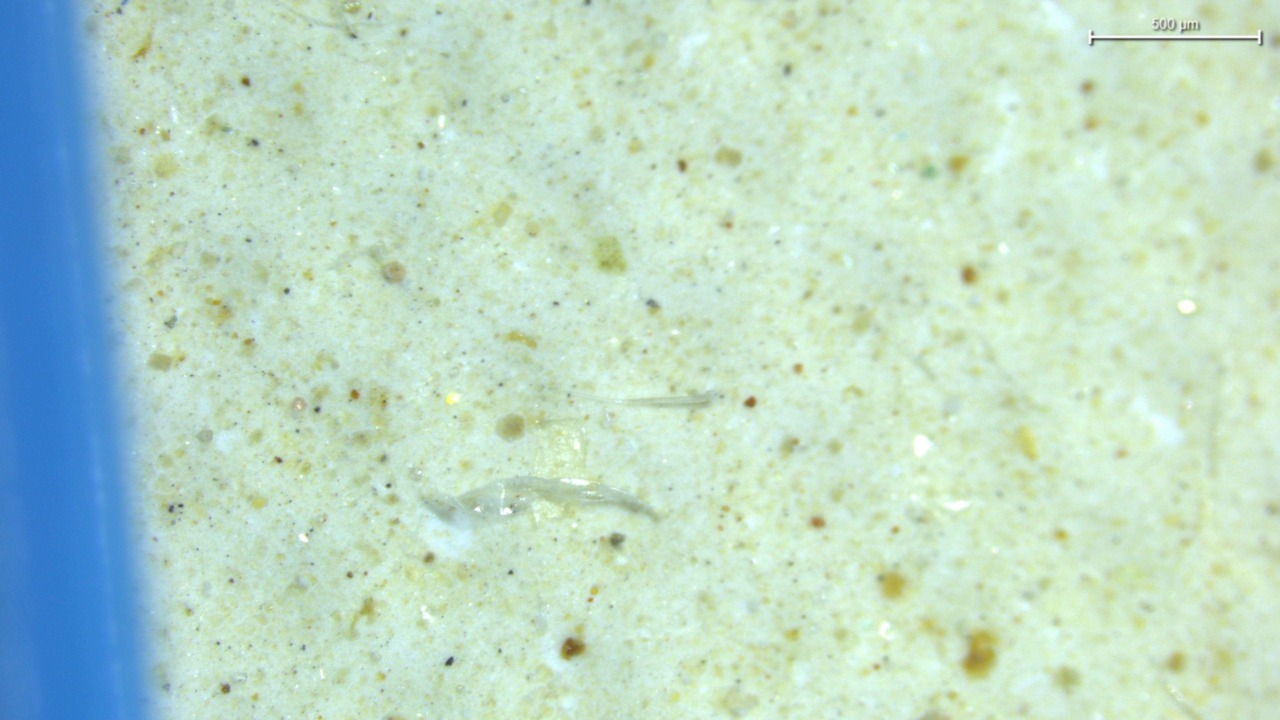microplastic_fragment: (424, 476, 657, 529)
